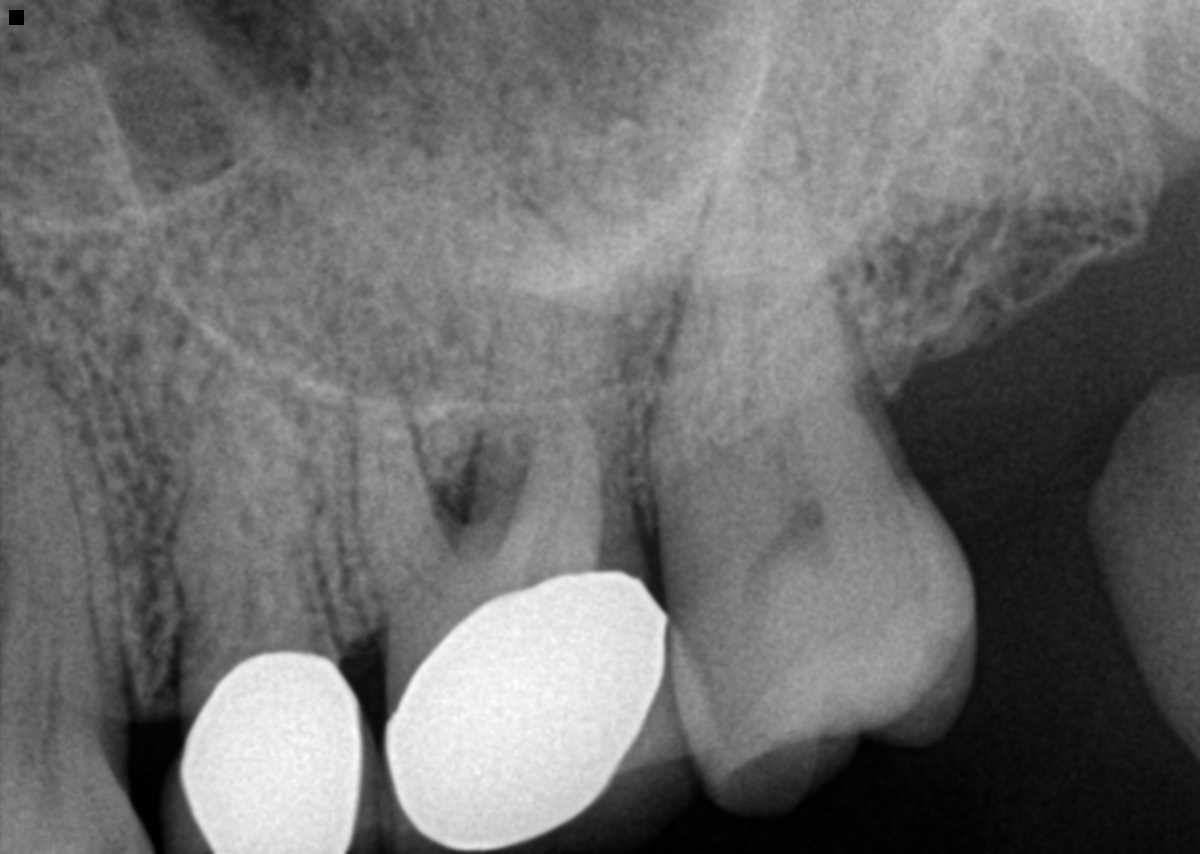Distal Canal: (526, 436, 576, 567)
Distal Root: (497, 395, 600, 571)
Main Canal: (224, 439, 271, 673)
Main Root: (646, 125, 896, 537), (166, 329, 336, 705), (0, 351, 131, 713)
Mesial Canal: (379, 454, 435, 590)
Mesial Root: (356, 368, 480, 618)
Palatal Root: (461, 211, 648, 563)
